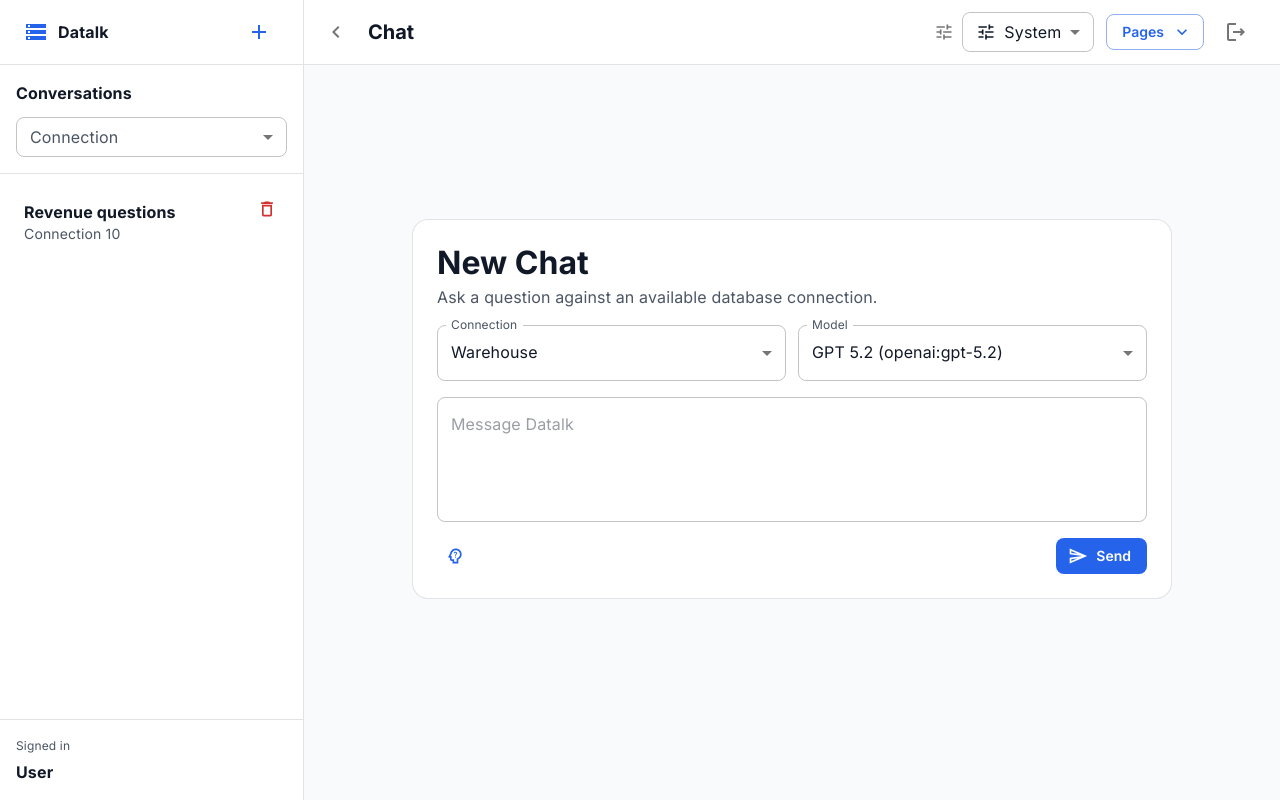
it: ChatPage › shows natural responses first and reveals SQL details on toggle
Click the text "Revenue questions".
click(100, 212)  # box left=24, top=202, right=176, bottom=222
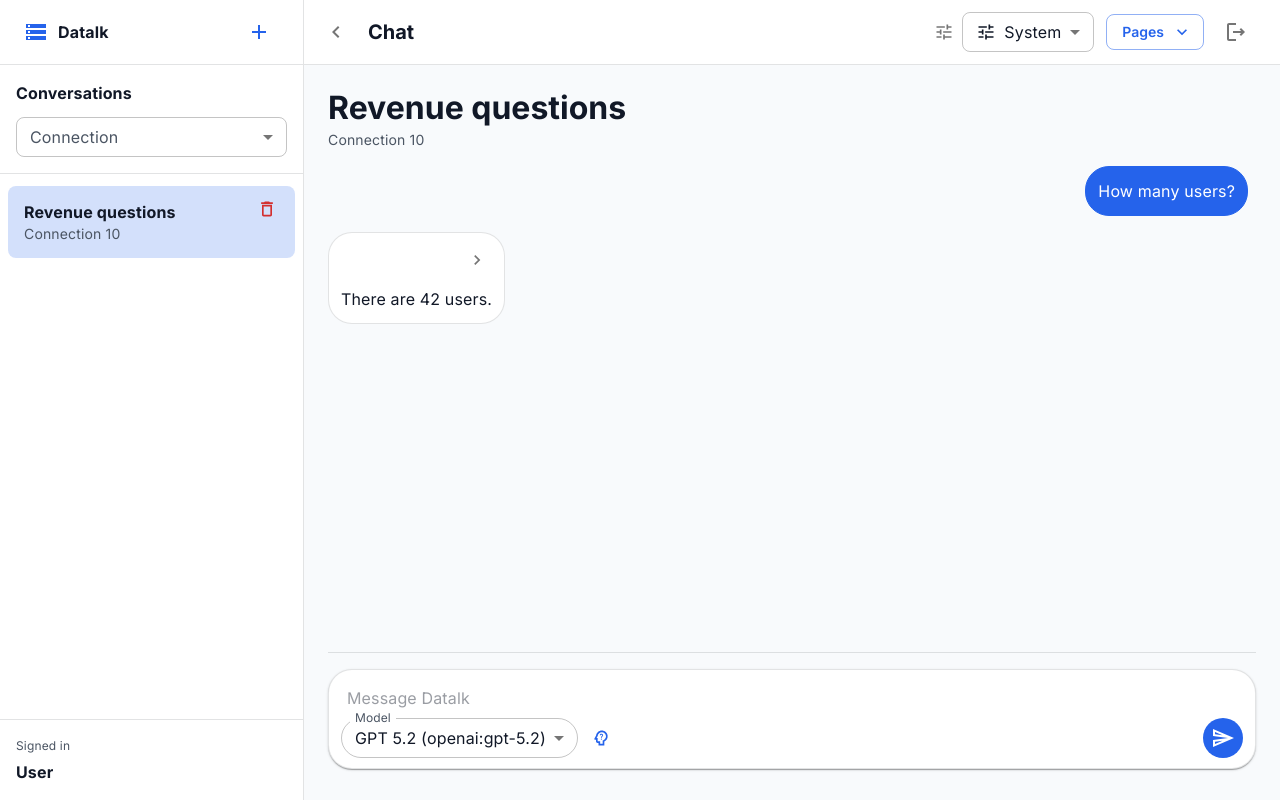
Expected: the text "Counts users." is not shown
Expected: the text "There are 42 users." is shown, left=341, top=287, right=492, bottom=311
Click the button named "Show SQL and results".
click(477, 260)  # box left=462, top=245, right=492, bottom=275
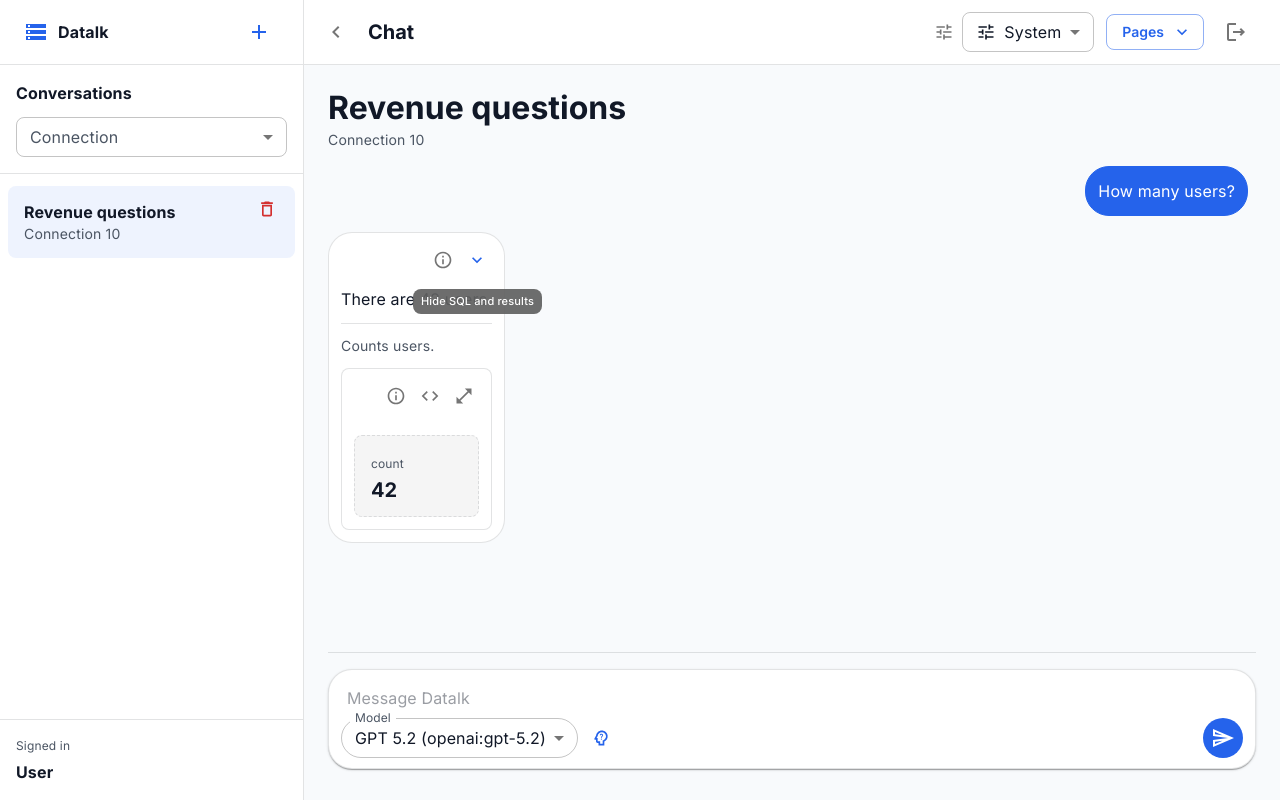
Expected: the text "Counts users." is shown, left=341, top=337, right=434, bottom=354
Expected: the text "42" is shown, left=371, top=478, right=397, bottom=502
